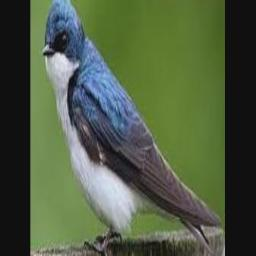Swallow: (42, 0, 222, 256)
